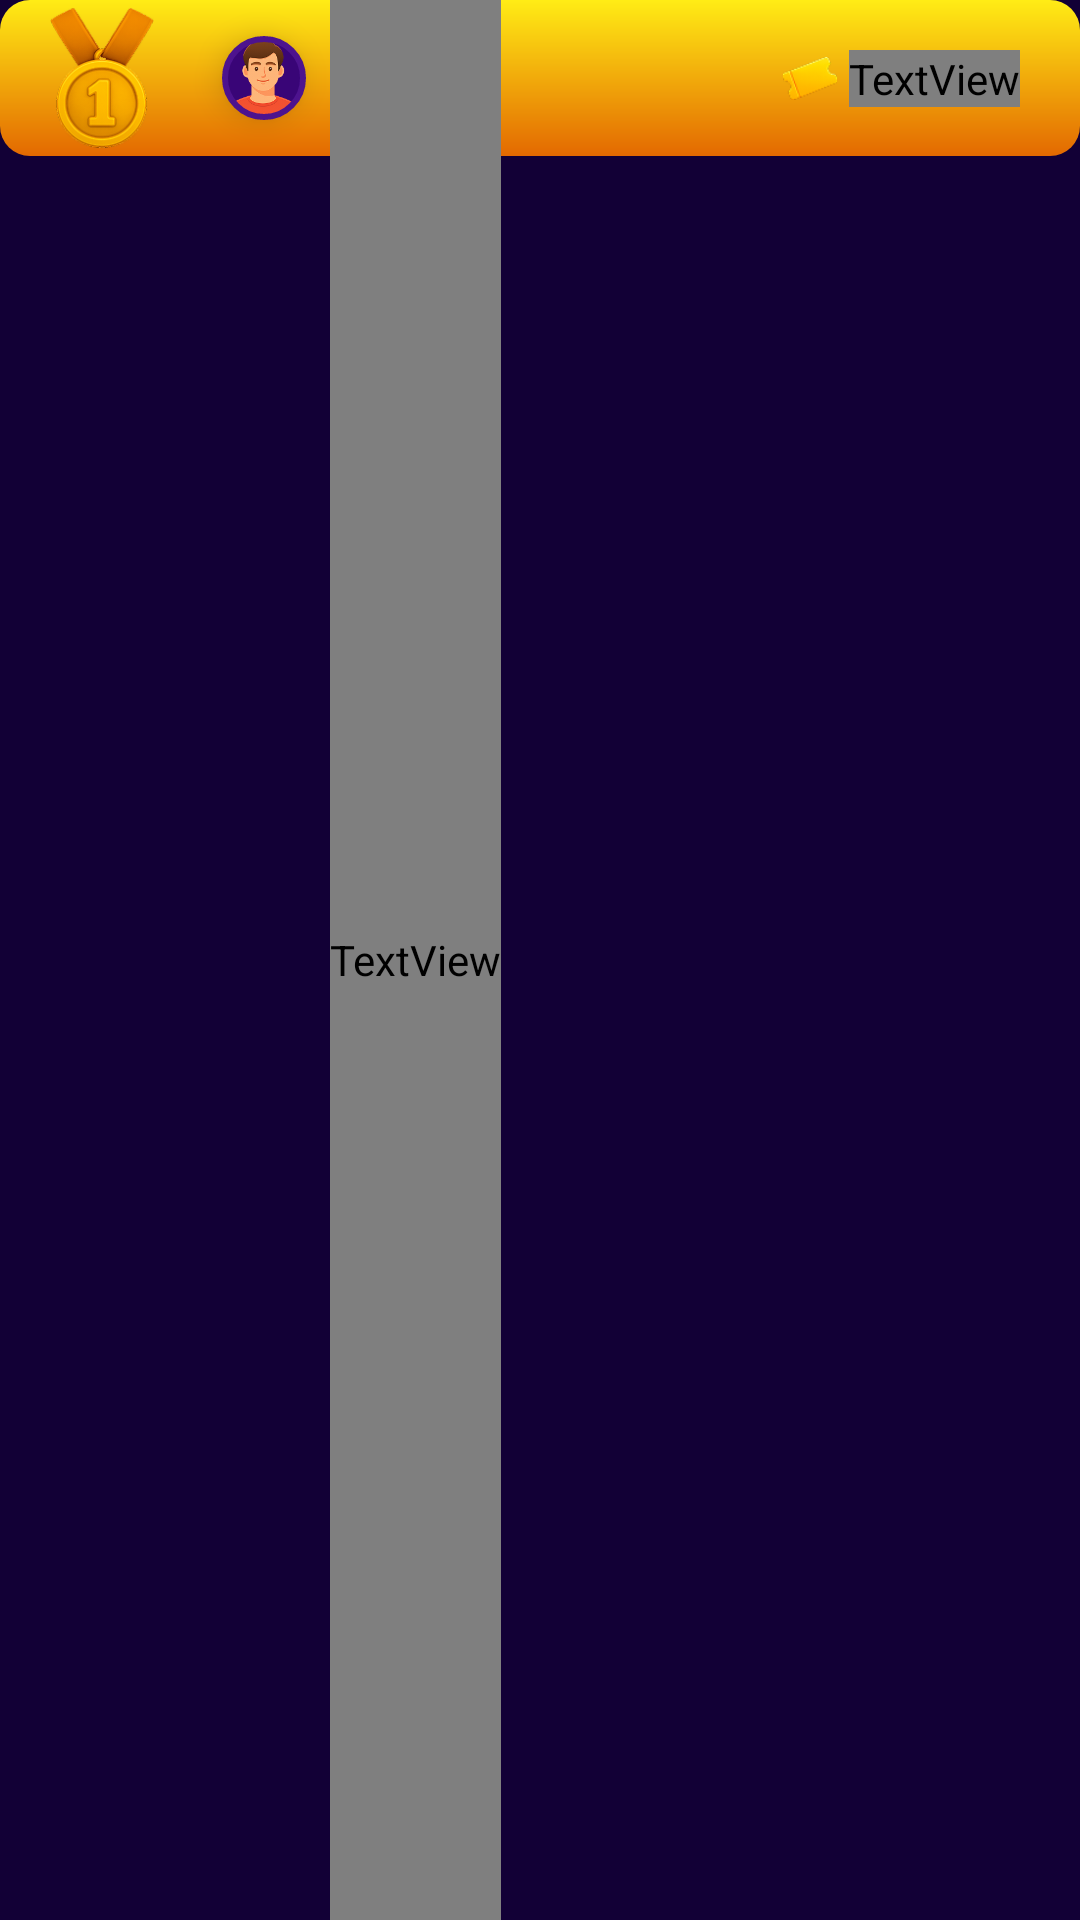

Icons on this 1080 x 1920 Android screen, each with the point to tap as (x,y):
gold medal one: (102,78)
profile: (264,78)
ticket: (810,78)
